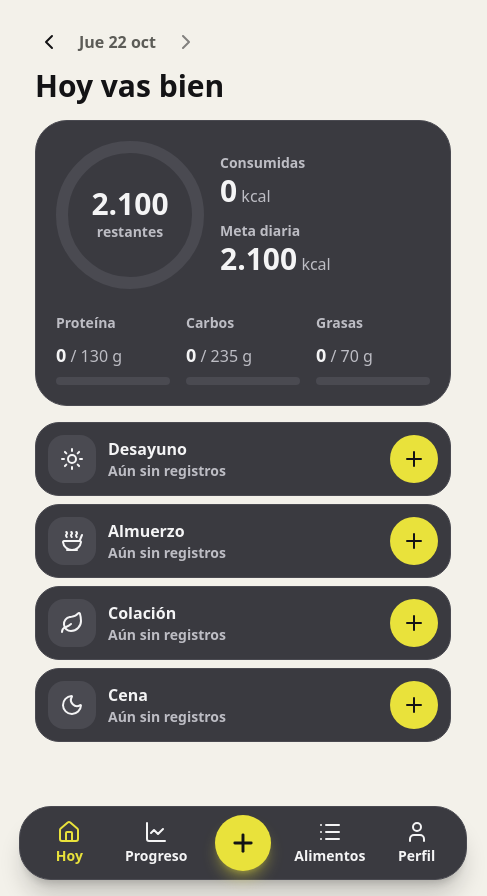
it: TodayPage › moves to another day and back (HU-03 CA3)
The width and height of the screenshot is (487, 896).
Expected: the button named "Día siguiente" is disabled, [164,20,208,64]
Step 1. Click the button named "Día anterior" → (49, 42), box [27,20,71,64]
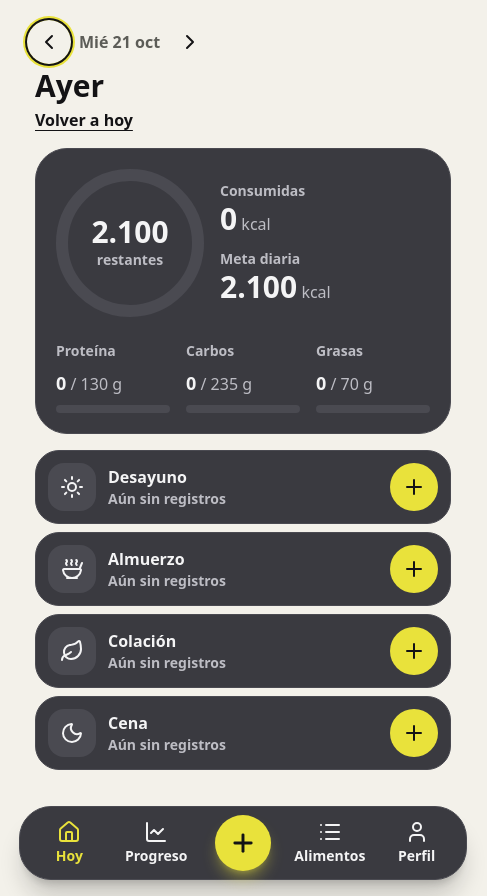
Result: the heading "Ayer" is shown at [35,65,104,106]
Step 2. Click the link "Volver a hoy" → (84, 120), box [35,108,133,132]
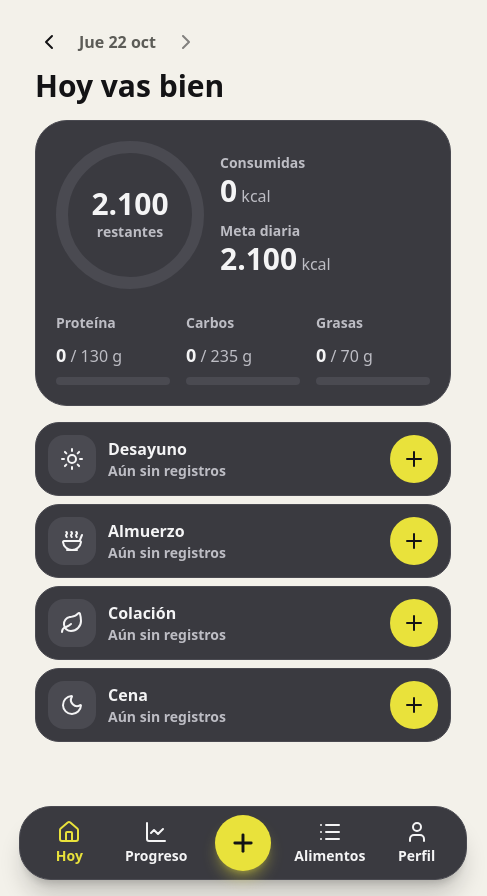
Result: the heading "Hoy vas bien" is shown at [35,65,224,106]
